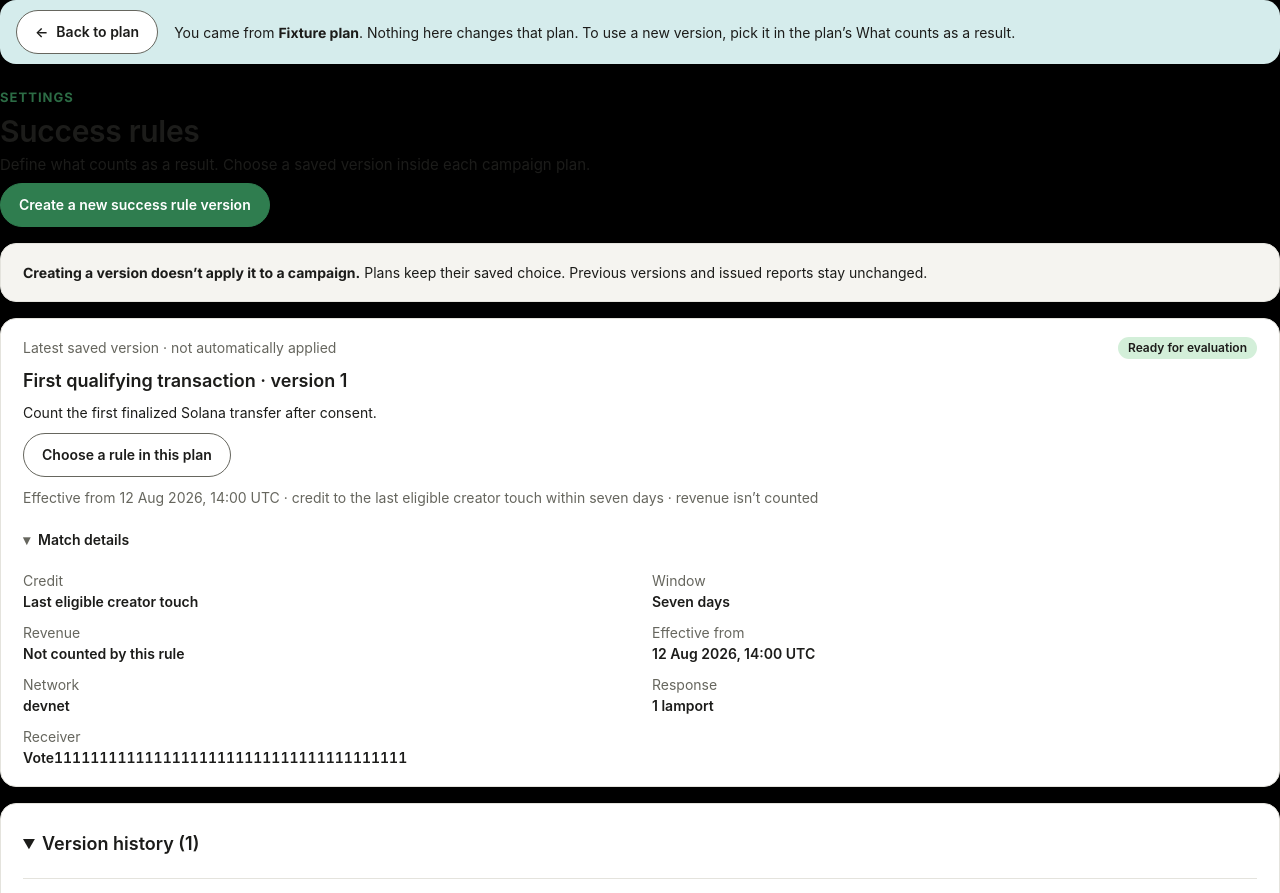
conversion rule settings › returns to the plan it came from without changing that plan
The image size is (1280, 893).
Click the button "Create a new success rule version". click: (135, 204)
box: x1=0 y1=182 x2=270 y2=226
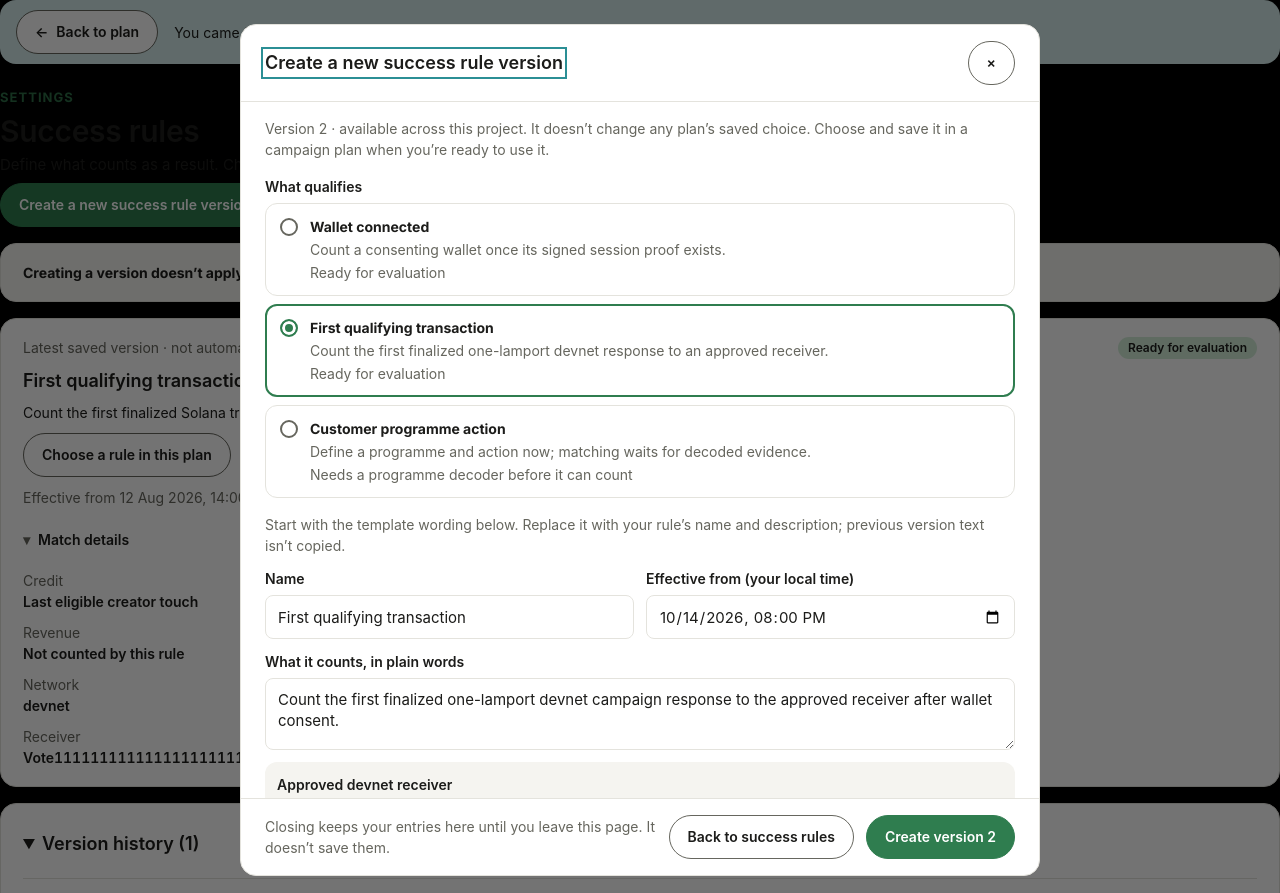
Expected: the element named "Where you came from" shows "You came from Fixture plan. Nothing here changes that plan.", x1=0 y1=0 x2=1279 y2=64
Expected: the text "It doesn’t change any plan’s saved choice" is shown, x1=265 y1=120 x2=968 y2=158
